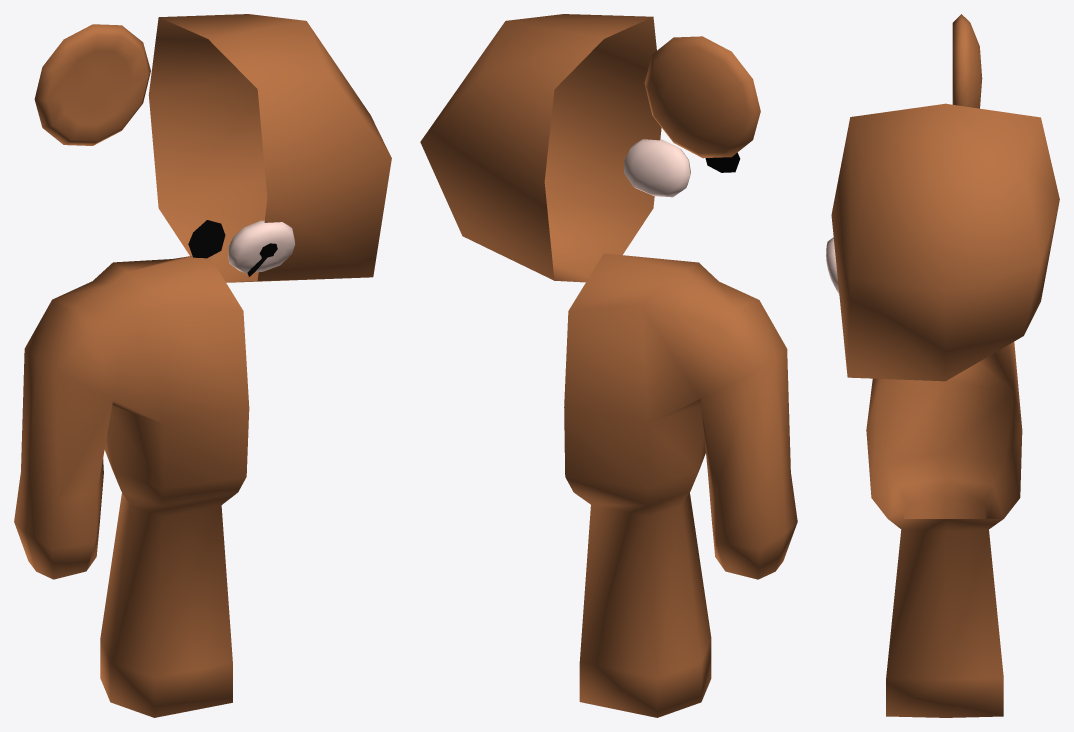
The model's file is Orsetto1.glb.
The picture shows the model from 3 angles, left to right: view 1: azimuth 30°, elevation 25°; view 2: azimuth 150°, elevation 25°; view 3: azimuth 270°, elevation 25°; orthographic projection. The views are drawn at different scales.
Visible parts, largest first — view 1: Plane.002, Cube, Sphere, Sphere.001, Plane; view 2: Plane.002, Cube, Sphere, Sphere.001; view 3: Cube, Plane.002, Sphere, Sphere.001.
Boxes of the visible parts, <box> form: Plane.002: <box>14,256,249,717</box>; Cube: <box>148,14,391,282</box>; Sphere: <box>34,24,150,145</box>; Sphere.001: <box>228,220,295,273</box>; Plane: <box>188,220,225,258</box>; Plane.002: <box>564,253,797,717</box>; Cube: <box>420,14,661,282</box>; Sphere: <box>644,36,760,158</box>; Sphere.001: <box>624,139,690,197</box>; Cube: <box>831,103,1059,381</box>; Plane.002: <box>866,342,1022,717</box>; Sphere: <box>952,14,982,108</box>; Sphere.001: <box>826,237,839,294</box>.
Size of the model in its own units: 2.14 by 3.99 by 1.3.
